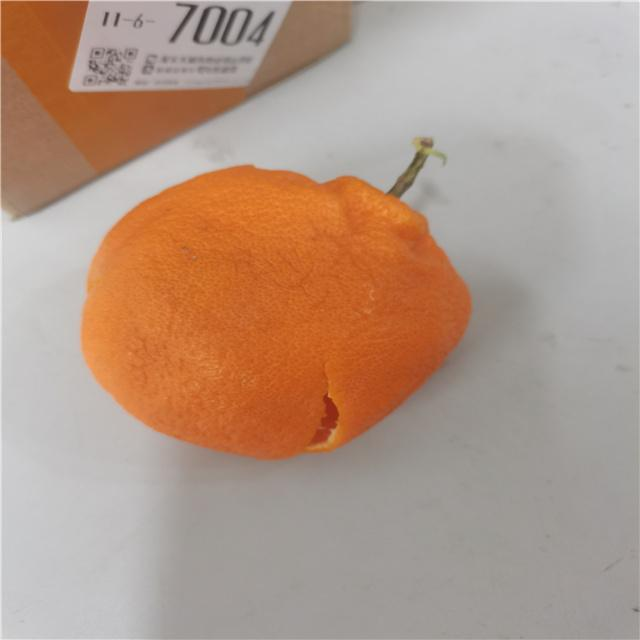orange-peel: (76, 133, 477, 464)
